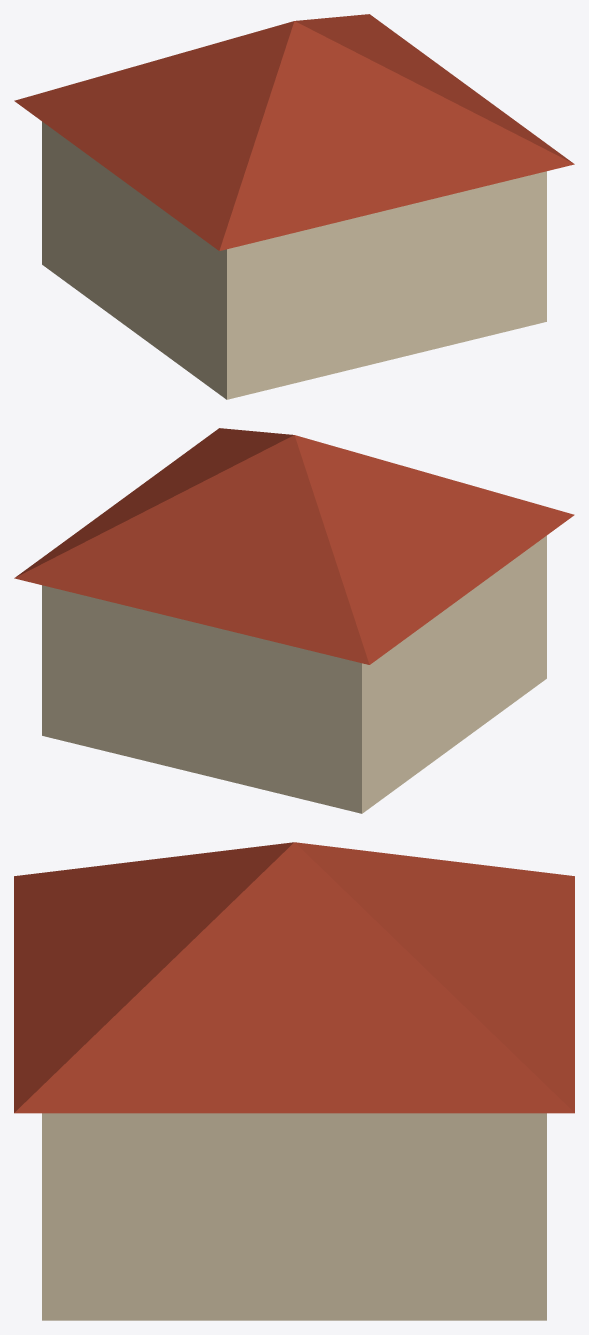
The model's file is roof_addon_01.fbx.
3 views of the same model, one above another, from view 1: azimuth 30°, elevation 25°; view 2: azimuth 150°, elevation 25°; view 3: azimuth 270°, elevation 25° (orthographic). The views are drawn at different scales.
Parts seen in each view (by area): view 1: roof_addon_01; view 2: roof_addon_01; view 3: roof_addon_01.
Part boxes in pixels (box(x1,y1,x2,y2)): roof_addon_01: box(14, 14, 574, 399); roof_addon_01: box(14, 428, 574, 813); roof_addon_01: box(14, 842, 574, 1320).
Bounding box in the file's own units: 200 × 146 × 200.
1 material, 1 textured.
